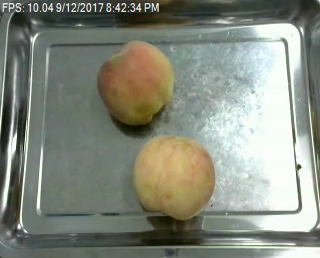Peach: (132, 134, 216, 219), (97, 39, 175, 125)
